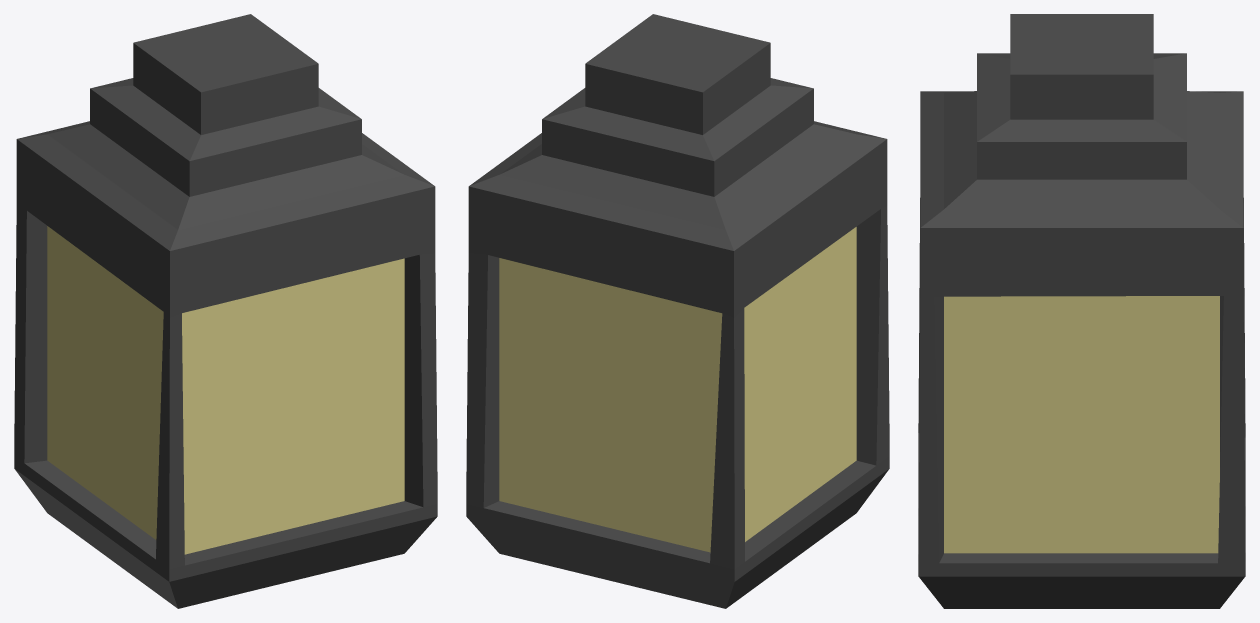
The model's file is Lantern.fbx.
The picture shows the model from 3 angles, left to right: view 1: azimuth 30°, elevation 25°; view 2: azimuth 150°, elevation 25°; view 3: azimuth 270°, elevation 25°; orthographic projection. The views are drawn at different scales.
Parts seen in each view (by area): view 1: Cube; view 2: Cube; view 3: Cube.
Part boxes in pixels (box(x1,y1,x2,y2)): Cube: box(14, 14, 437, 608); Cube: box(466, 14, 889, 608); Cube: box(918, 14, 1245, 608).
Bounding box in the file's own units: 558 × 954 × 558.
